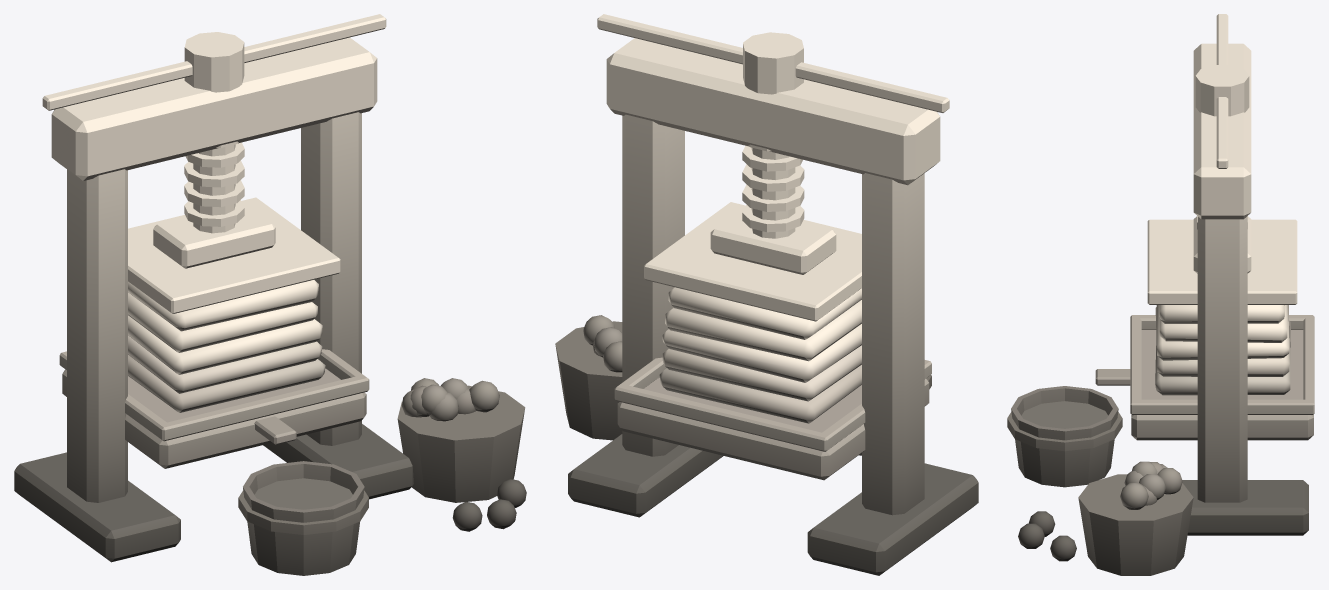
Rendered from SM_VK_Prop_CiderPress.fbx.
The picture shows the model from 3 angles, left to right: view 1: azimuth 30°, elevation 25°; view 2: azimuth 150°, elevation 25°; view 3: azimuth 270°, elevation 25°; orthographic projection. The views are drawn at different scales.
Visible parts, largest first — view 1: SM_VK_Prop_CiderPress.001; view 2: SM_VK_Prop_CiderPress.001; view 3: SM_VK_Prop_CiderPress.001.
Part boxes in pixels (x1,y1,x2,y2): SM_VK_Prop_CiderPress.001: (14,14,526,575); SM_VK_Prop_CiderPress.001: (555,14,978,575); SM_VK_Prop_CiderPress.001: (1007,14,1314,575).
Size of the model in its own units: 2.24 by 2.27 by 1.6.
